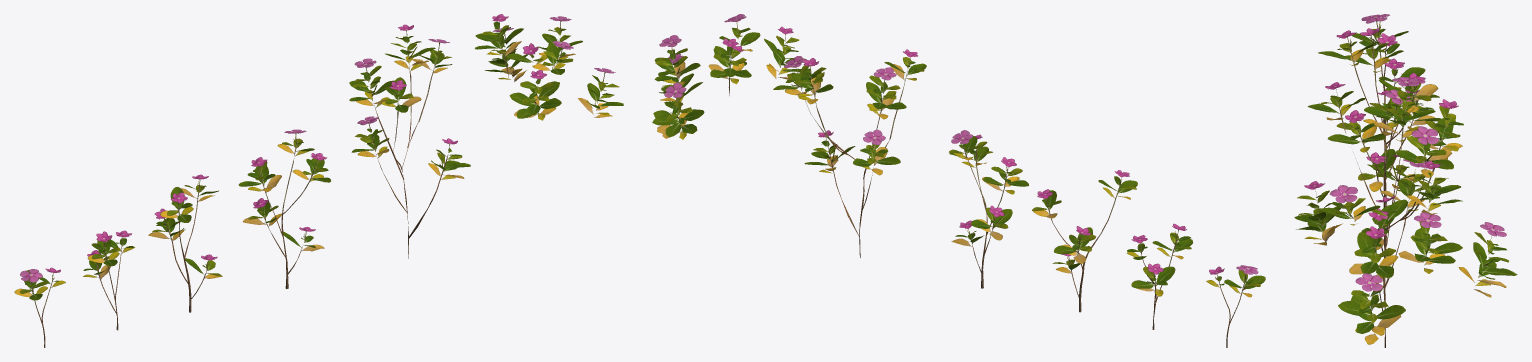
File: periwinkle_plant_1k.gltf
3 views of the same model, side by side, from view 1: azimuth 30°, elevation 25°; view 2: azimuth 150°, elevation 25°; view 3: azimuth 270°, elevation 25° (orthographic). The views are drawn at different scales.
Parts seen in each view (by area): view 1: periwinkle_plant_01_LOD0, periwinkle_plant_02_LOD0, periwinkle_plant_03_LOD0, periwinkle_plant_04_LOD0, periwinkle_plant_05_LOD0, periwinkle_plant_06_LOD0; view 2: periwinkle_plant_01_LOD0, periwinkle_plant_02_LOD0, periwinkle_plant_03_LOD0, periwinkle_plant_04_LOD0, periwinkle_plant_05_LOD0, periwinkle_plant_06_LOD0; view 3: periwinkle_plant_01_LOD0, periwinkle_plant_02_LOD0, periwinkle_plant_03_LOD0, periwinkle_plant_04_LOD0, periwinkle_plant_05_LOD0, periwinkle_plant_06_LOD0.
Boxes of the visible parts, x1,y1,x2,y2 form: periwinkle_plant_01_LOD0: [475, 14, 623, 120]; periwinkle_plant_02_LOD0: [349, 24, 470, 258]; periwinkle_plant_03_LOD0: [238, 129, 330, 288]; periwinkle_plant_04_LOD0: [148, 174, 222, 312]; periwinkle_plant_05_LOD0: [83, 230, 134, 330]; periwinkle_plant_06_LOD0: [14, 267, 65, 347]; periwinkle_plant_01_LOD0: [652, 14, 806, 139]; periwinkle_plant_02_LOD0: [773, 49, 926, 257]; periwinkle_plant_03_LOD0: [949, 130, 1028, 288]; periwinkle_plant_04_LOD0: [1032, 170, 1137, 312]; periwinkle_plant_05_LOD0: [1126, 223, 1192, 329]; periwinkle_plant_06_LOD0: [1206, 265, 1265, 347]; periwinkle_plant_01_LOD0: [1294, 160, 1517, 344]; periwinkle_plant_02_LOD0: [1308, 77, 1463, 347]; periwinkle_plant_03_LOD0: [1327, 89, 1422, 257]; periwinkle_plant_04_LOD0: [1318, 30, 1441, 207]; periwinkle_plant_05_LOD0: [1345, 28, 1439, 151]; periwinkle_plant_06_LOD0: [1351, 14, 1408, 124].
Bounding box in the file's own units: 1.24 × 0.4107 × 0.3207.
Materials: 1 (1 with a texture image).
